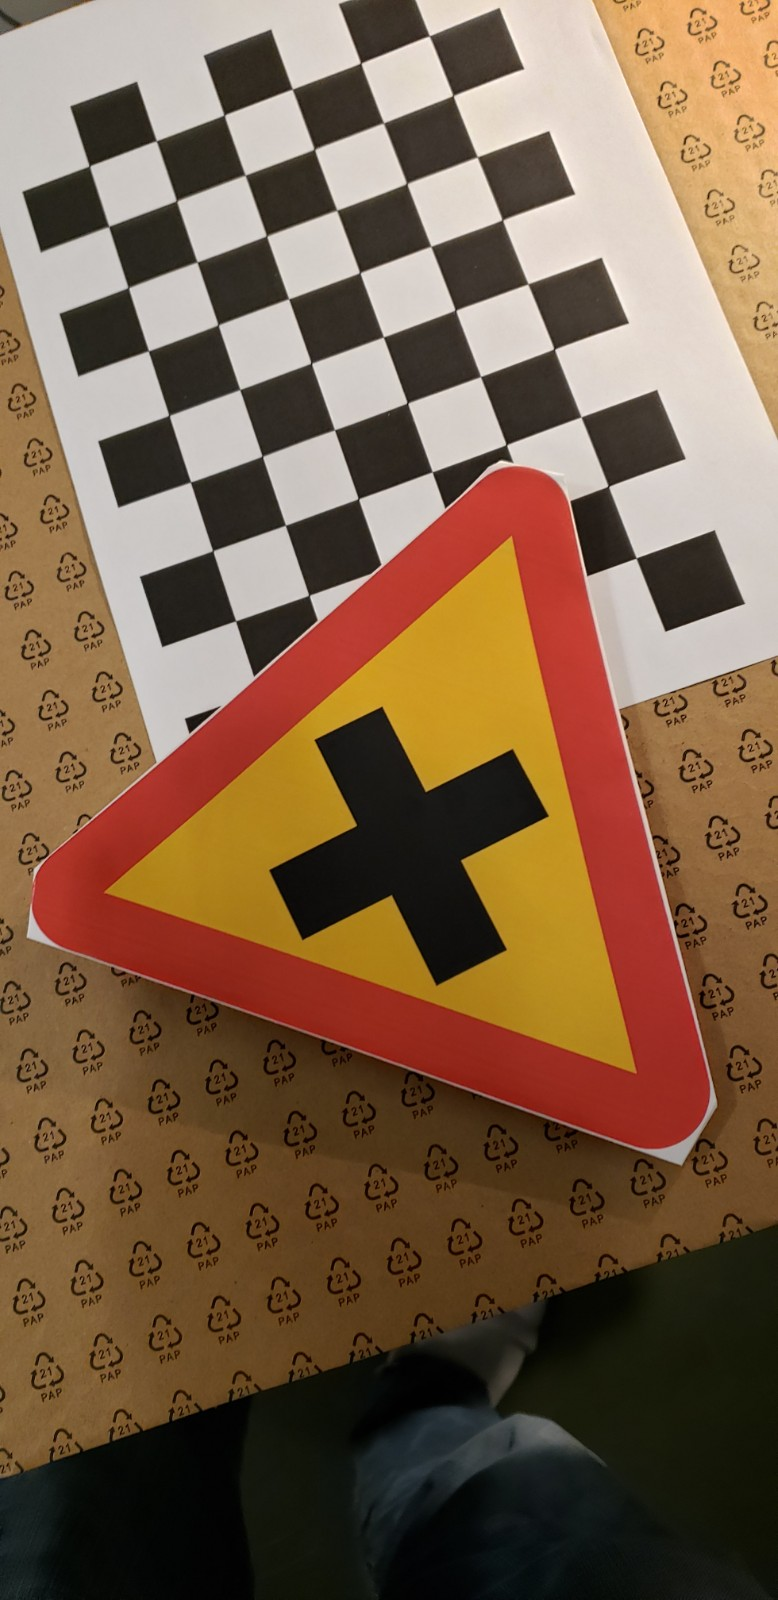junction: (58, 431, 738, 1170)
